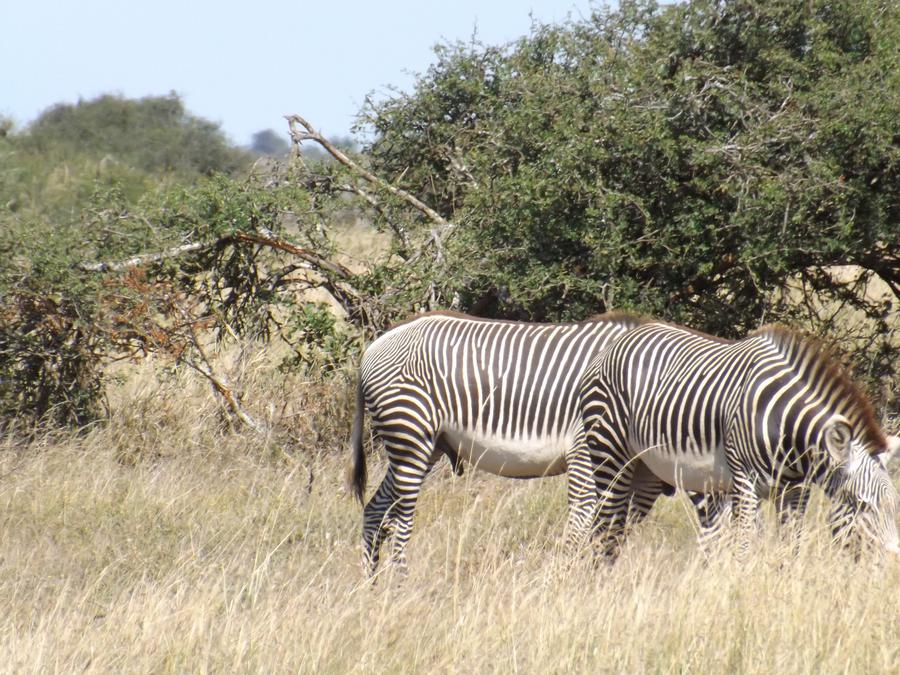zebra_grevys: (358, 289, 576, 455)
